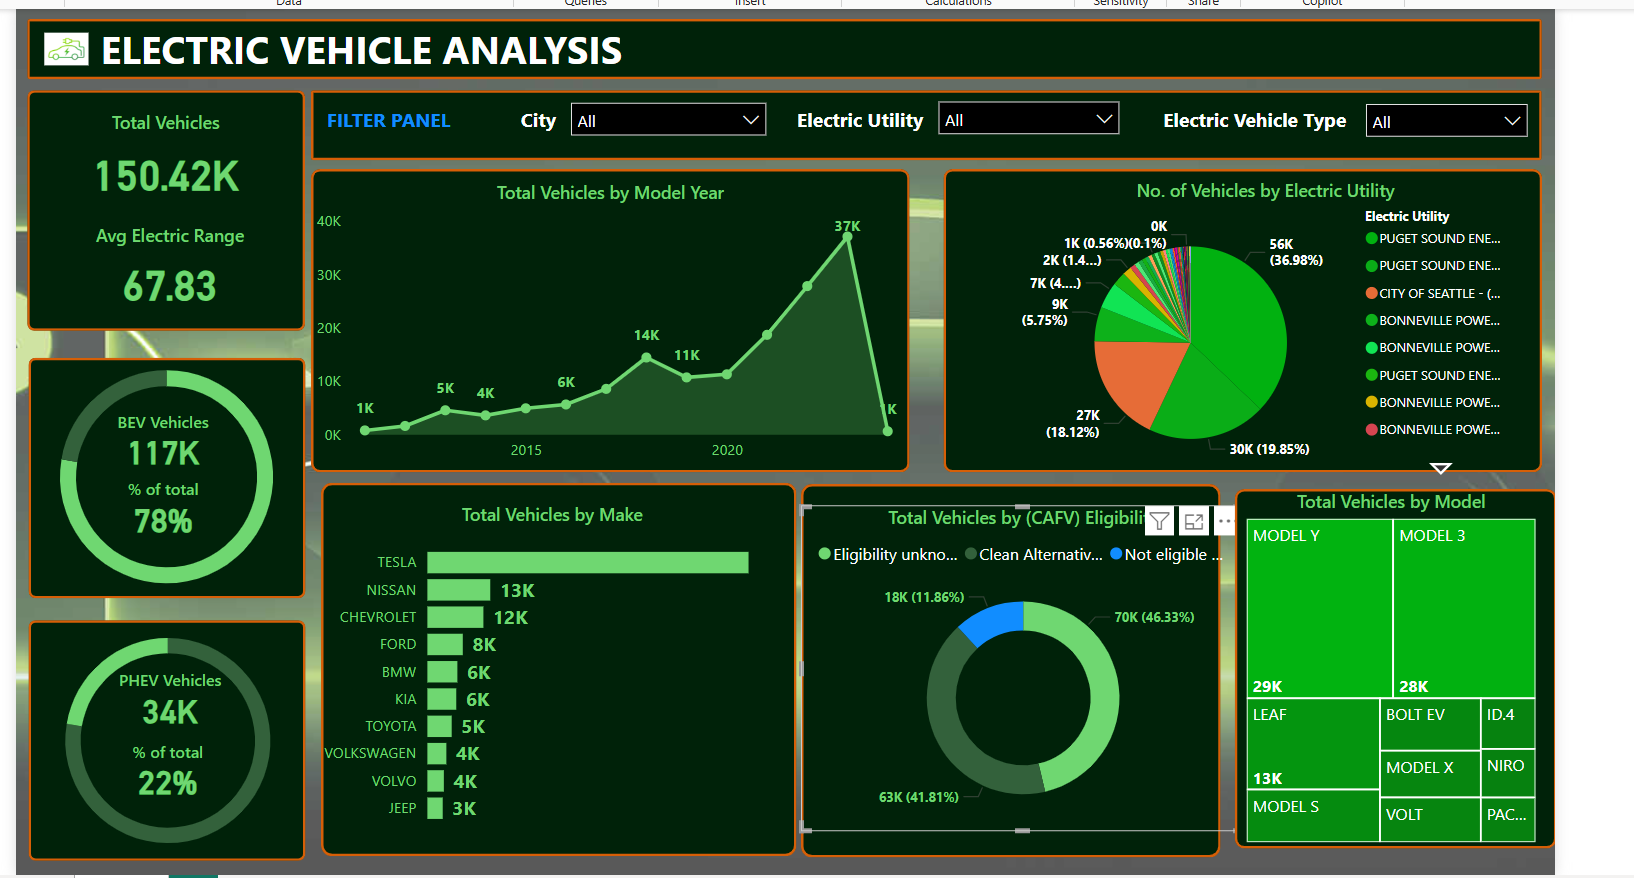

What the dashboard file says about the page in this screenshot:
{"tool":"powerbi","page":{"name":"Page 1","canvas":[1280,720],"ordinal":0},"visuals":[{"type":"shape","box":[9.3,8.1,1259.3,50],"z":0},{"type":"textbox","box":[65.1,5.8,507,52.3],"z":1000},{"type":"shape","box":[9.3,67.4,231,200],"z":2000},{"type":"card","title":"Total Vehicles","fields":{"Values":["Electric_Vehicle_Population_Data.Total Vehicles"]},"box":[23.3,83.7,203.1,83.7],"z":3000},{"type":"card","title":"Avg Electric Range","fields":{"Values":["Avg(Electric_Vehicle_Population_Data.Electric Range)"]},"box":[29.1,177.9,197.7,80.2],"z":4000},{"type":"shape","box":[10.5,289.5,230.2,200],"z":5000},{"type":"shape","box":[10.5,508.1,230.2,200],"z":6000},{"type":"donutChart","fields":{"Category":["Electric_Vehicle_Population_Data.Electric Vehicle Type"],"Y":["Electric_Vehicle_Population_Data.Total Vehicles"]},"box":[6.7,273.3,238.3,231.6],"z":7000},{"type":"card","title":"BEV Vehicles","fields":{"Values":["Electric_Vehicle_Population_Data.BEV Vehicles"]},"box":[16.2,333.9,211.4,51.2],"z":8000},{"type":"card","title":"% of total","fields":{"Values":["Electric_Vehicle_Population_Data.% of BEV"]},"box":[16.3,389.5,211.6,51.2],"z":9000},{"type":"donutChart","fields":{"Category":["Electric_Vehicle_Population_Data.Electric Vehicle Type"],"Y":["Electric_Vehicle_Population_Data.Total Vehicles"]},"box":[7,496.5,238.4,223.3],"z":10000},{"type":"card","title":"PHEV Vehicles","fields":{"Values":["Electric_Vehicle_Population_Data.PHEV Vehicles"]},"box":[26.7,548.8,202.3,51.2],"z":11000},{"type":"card","title":"% of total","fields":{"Values":["Electric_Vehicle_Population_Data.% of PHEV"]},"box":[18.6,608.1,215.1,51.2],"z":12000},{"type":"shape","box":[245.3,67.4,1023.3,58.1],"z":13000},{"type":"shape","box":[245.3,132.6,497.7,252.3],"z":14000},{"type":"areaChart","fields":{"Category":["Electric_Vehicle_Population_Data.Model Year"],"Y":["Electric_Vehicle_Population_Data.Total Vehicles"]},"box":[245.3,141.9,497.7,243],"z":15000},{"type":"shape","box":[770.9,132.6,497.7,252.3],"z":16000},{"type":"shape","box":[253.5,394.2,395.3,310.5],"z":17000},{"type":"barChart","fields":{"Category":["Electric_Vehicle_Population_Data.Make"],"Y":["Electric_Vehicle_Population_Data.Total Vehicles"]},"box":[244.2,409.5,403.2,278.5],"z":18000},{"type":"shape","box":[652.3,395.3,348.8,310.5],"z":19000},{"type":"donutChart","title":"Total Vehicles by  (CAFV) Eligibility","fields":{"Category":["Electric_Vehicle_Population_Data.Clean Alternative Fuel Vehicle (CAFV) Eligibility"],"Y":["Electric_Vehicle_Population_Data.Total Vehicles"]},"box":[652.3,412.8,369.8,270.9],"z":20000},{"type":"shape","box":[1012.8,398.8,267.4,298.8],"z":21000},{"type":"treemap","fields":{"Group":["Electric_Vehicle_Population_Data.Model"],"Values":["Electric_Vehicle_Population_Data.Total Vehicles"]},"box":[1018.6,398.8,250,298.8],"z":22000},{"type":"textbox","box":[253.5,75.6,197.7,50],"z":23000},{"type":"slicer","fields":{"Values":["Electric_Vehicle_Population_Data.City"]},"box":[451.2,67.4,182.6,41.9],"z":24000},{"type":"textbox","box":[415.1,75.6,53.5,41.9],"z":25000},{"type":"textbox","box":[644.2,75.6,133.7,33.7],"z":26000},{"type":"slicer","fields":{"Values":["Electric_Vehicle_Population_Data.Electric Utility"]},"box":[757,66.3,170.9,52.3],"z":27000},{"type":"slicer","fields":{"Values":["Electric_Vehicle_Population_Data.Electric Vehicle Type"]},"box":[1111.6,68.6,154.7,52.3],"z":28000},{"type":"textbox","box":[948.8,75.6,170.9,36],"z":29000},{"type":"pieChart","title":"No. of Vehicles by Electric Utility","fields":{"Y":["Electric_Vehicle_Population_Data.Total Vehicles"],"Category":["Electric_Vehicle_Population_Data.Electric Utility"]},"box":[826.7,140.7,423.3,254.7],"z":29001},{"type":"image","box":[18.6,12.8,46.5,41.9],"z":29002}]}

Visuals, with their boxes in screenshot pixels (x1, y1, x2, y2):
shape: BBox(24, 10, 1536, 70)
textbox: BBox(91, 7, 700, 70)
shape: BBox(24, 81, 301, 321)
"Total Vehicles" card: BBox(41, 100, 285, 201)
"Avg Electric Range" card: BBox(48, 214, 285, 310)
shape: BBox(25, 348, 302, 588)
shape: BBox(25, 610, 302, 850)
donutChart - Electric_Vehicle_Population_Data.Electric Vehicle Type x Electric_Vehicle_Population_Data.Total Vehicles: BBox(21, 328, 307, 606)
"BEV Vehicles" card: BBox(32, 401, 286, 462)
"% of total" card: BBox(32, 468, 286, 529)
donutChart - Electric_Vehicle_Population_Data.Electric Vehicle Type x Electric_Vehicle_Population_Data.Total Vehicles: BBox(21, 596, 307, 864)
"PHEV Vehicles" card: BBox(45, 659, 288, 720)
"% of total" card: BBox(35, 730, 293, 792)
shape: BBox(307, 81, 1536, 151)
shape: BBox(307, 159, 905, 462)
areaChart - Electric_Vehicle_Population_Data.Model Year x Electric_Vehicle_Population_Data.Total Vehicles: BBox(307, 170, 905, 462)
shape: BBox(938, 159, 1536, 462)
shape: BBox(317, 473, 792, 846)
barChart - Electric_Vehicle_Population_Data.Make x Electric_Vehicle_Population_Data.Total Vehicles: BBox(306, 492, 790, 826)
shape: BBox(796, 475, 1215, 847)
"Total Vehicles by  (CAFV) Eligibility" donutChart: BBox(796, 496, 1240, 821)
shape: BBox(1229, 479, 1550, 838)
treemap - Electric_Vehicle_Population_Data.Model x Electric_Vehicle_Population_Data.Total Vehicles: BBox(1236, 479, 1536, 838)
textbox: BBox(317, 91, 554, 151)
slicer - Electric_Vehicle_Population_Data.City: BBox(554, 81, 774, 131)
textbox: BBox(511, 91, 575, 141)
textbox: BBox(786, 91, 947, 131)
slicer - Electric_Vehicle_Population_Data.Electric Utility: BBox(922, 80, 1127, 142)
slicer - Electric_Vehicle_Population_Data.Electric Vehicle Type: BBox(1347, 82, 1533, 145)
textbox: BBox(1152, 91, 1357, 134)
"No. of Vehicles by Electric Utility" pieChart: BBox(1005, 169, 1514, 475)
image: BBox(35, 15, 91, 66)
